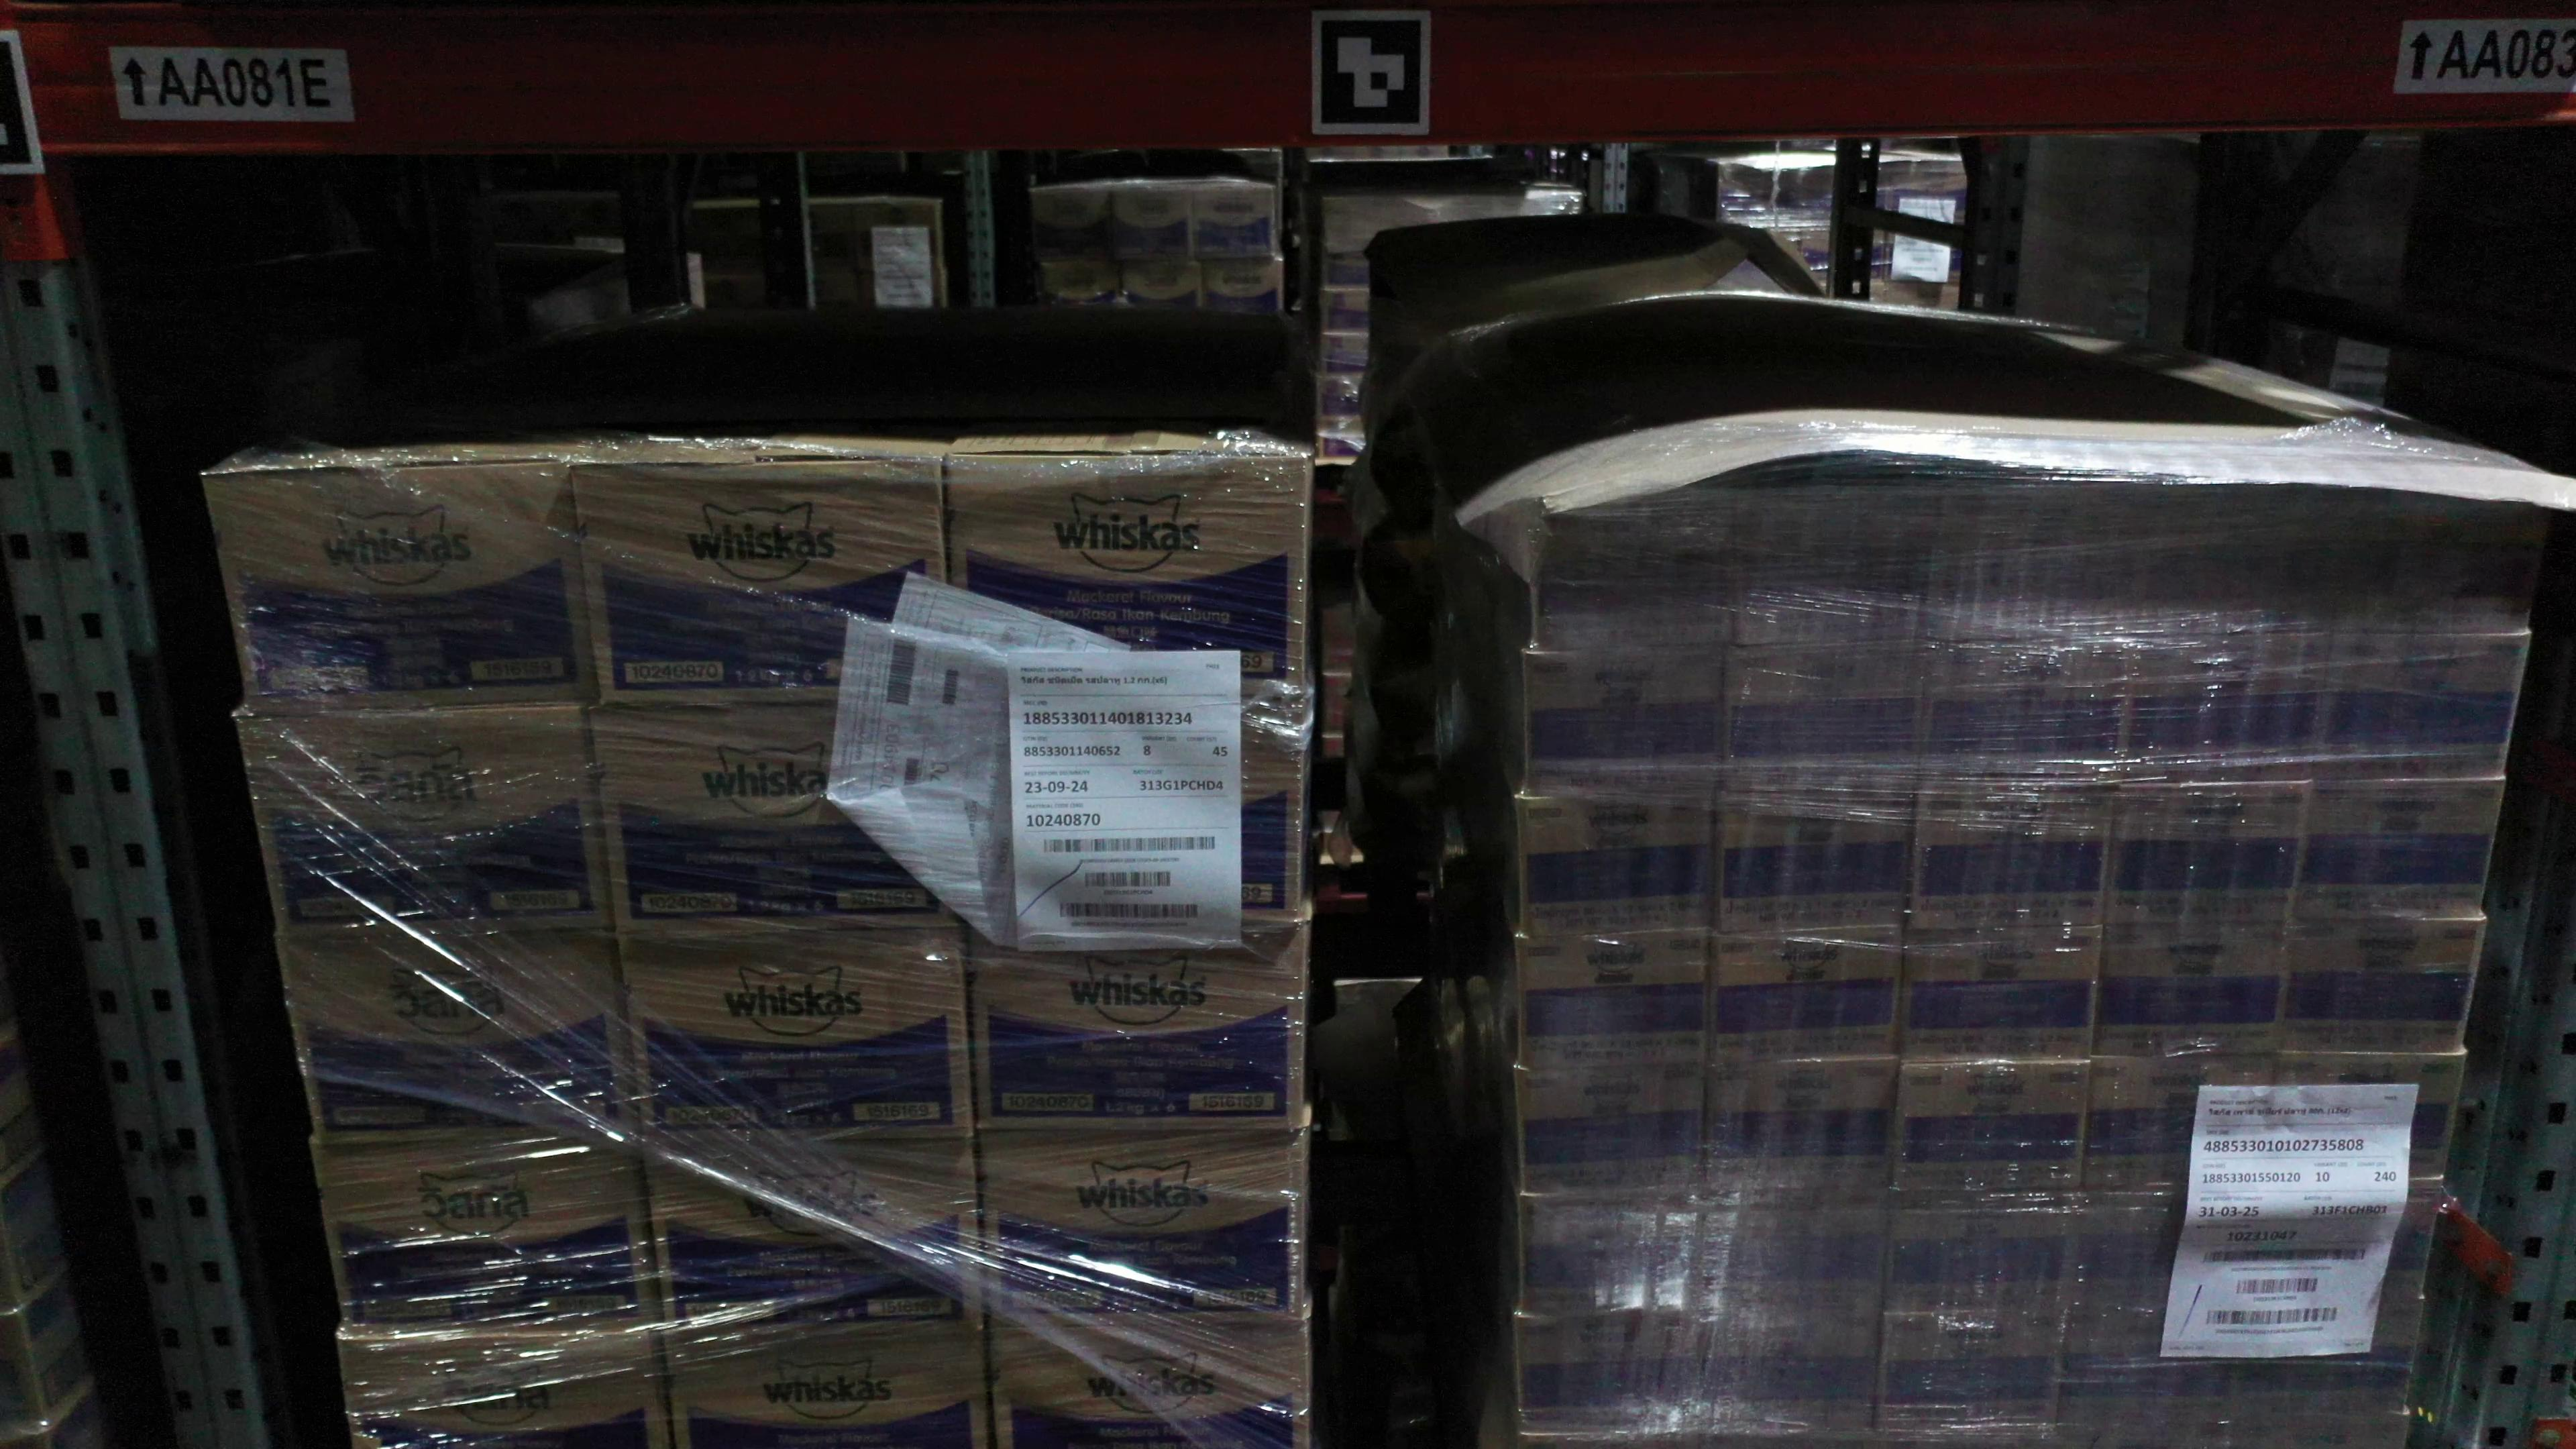-: (203, 460, 596, 718), (570, 458, 952, 706), (948, 446, 1307, 701), (593, 704, 966, 934), (251, 711, 610, 941), (961, 695, 1302, 932), (616, 929, 973, 1143), (280, 934, 635, 1145), (968, 924, 1307, 1134), (311, 1136, 655, 1338), (642, 1134, 985, 1336), (982, 1125, 1307, 1325), (991, 1322, 1316, 1449), (338, 1330, 672, 1449), (660, 1330, 994, 1449), (1923, 488, 2141, 646), (2130, 481, 2350, 635), (1534, 490, 1737, 655), (1907, 780, 2116, 939), (2116, 633, 2330, 782), (1721, 637, 1921, 794), (2314, 633, 2528, 780), (2107, 780, 2312, 932), (1918, 646, 2130, 791), (2337, 488, 2549, 633), (2305, 773, 2505, 924), (1736, 488, 1930, 642), (1523, 653, 1727, 798), (1713, 787, 1913, 932), (1518, 789, 1713, 938), (1706, 1056, 1898, 1205), (2286, 916, 2484, 1058), (2270, 1051, 2463, 1196), (2079, 1058, 2281, 1196), (2095, 929, 2296, 1065), (1897, 1062, 2088, 1203), (1516, 932, 1711, 1070), (1711, 929, 1904, 1065), (1904, 932, 2100, 1065), (1518, 1067, 1711, 1196), (2074, 1196, 2265, 1320), (2058, 1307, 2254, 1426), (1704, 1196, 1891, 1320), (2238, 1299, 2422, 1421), (2254, 1185, 2442, 1304), (1890, 1203, 2077, 1320), (1523, 1196, 1704, 1316), (1884, 1313, 2066, 1426), (1702, 1315, 1881, 1426), (1516, 1316, 1697, 1424)
